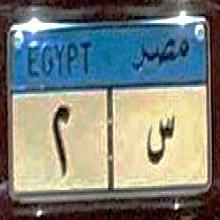2: (49, 103, 75, 176)
seen: (146, 108, 176, 170)
